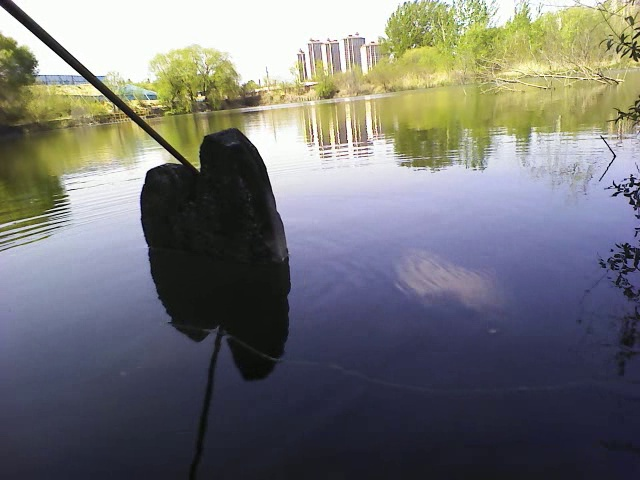rock: (133, 128, 290, 267)
